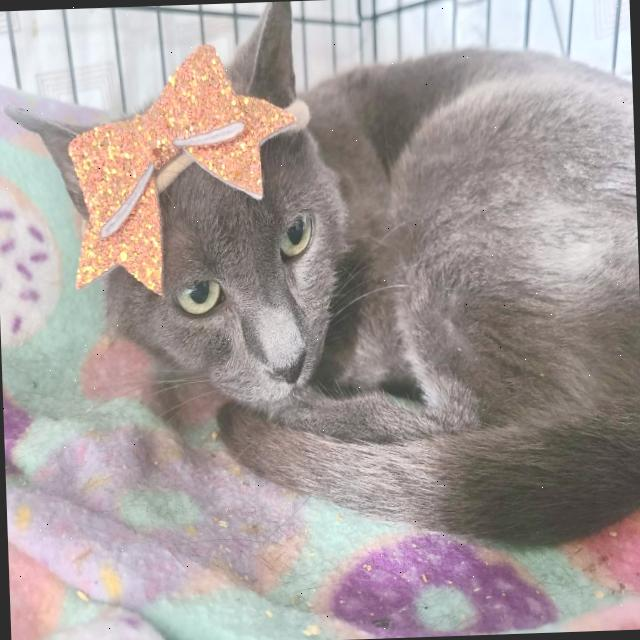russian_blue_cat: (1, 0, 376, 425)
